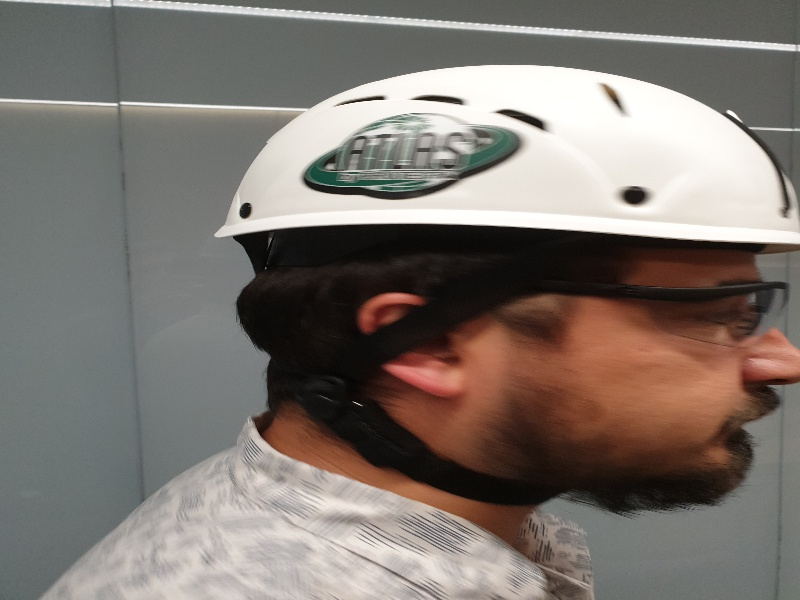Baret: (214, 63, 800, 248)
Gozluk: (485, 278, 788, 359)
